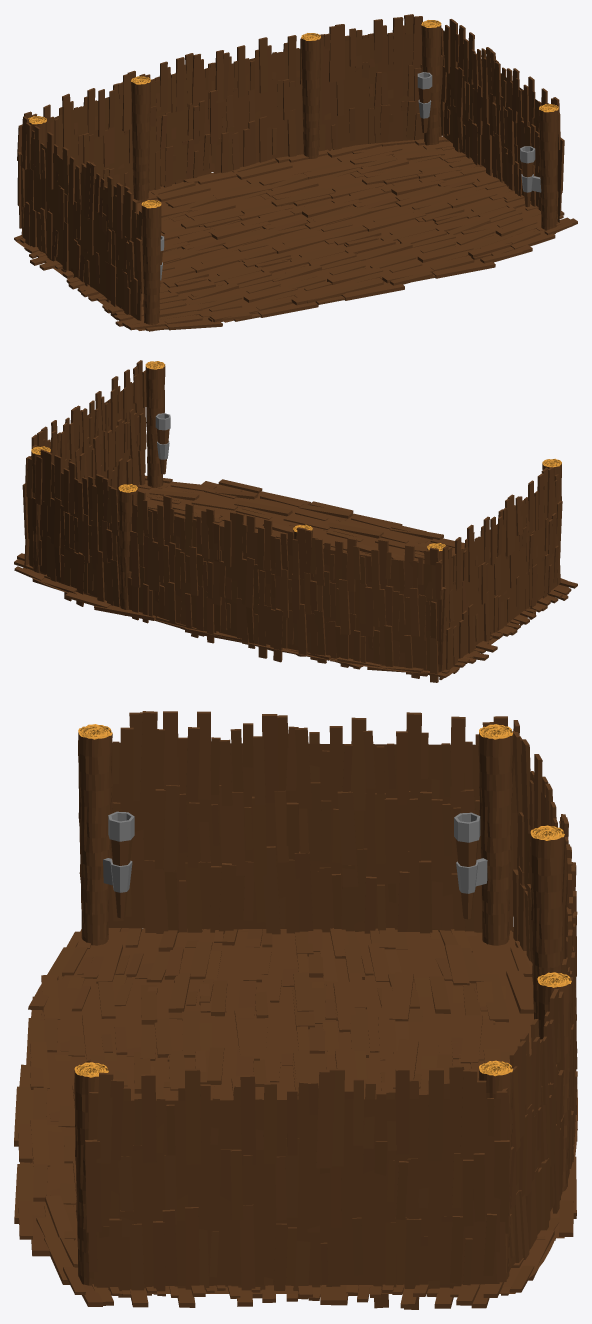
The model's file is hall.fbx.
3 views of the same model, one above another, from view 1: azimuth 30°, elevation 25°; view 2: azimuth 150°, elevation 25°; view 3: azimuth 270°, elevation 25° (orthographic). The views are drawn at different scales.
Visible parts, largest first — view 1: Cube.003, Cube.094, Plane, Cube.002, Cube.001, Cube.006, Cube.007, Cube.008, Cube.005, Cube.004, Cylinder.004, Cylinder.002 (+5 smaller); view 2: Cube.002, Cube.003, Cube.094, Cube.001, Cube.007, Plane, Cube.006, Cube.008, Cube.004, Cylinder.002, Cylinder.005, Cube.005 (+2 smaller); view 3: Cube.001, Cube.094, Plane, Cube.005, Cube.004, Cube.003, Cube.008, Cube.006, Cube.002, Cylinder, Cylinder.003, Cube.007 (+6 smaller).
Boxes of the visible parts, <box> form: Cube.003: <box>210,14,443,173</box>; Cube.094: <box>17,116,143,320</box>; Plane: <box>22,139,545,323</box>; Cube.002: <box>17,53,214,236</box>; Cube.001: <box>440,19,564,223</box>; Cube.006: <box>164,158,432,305</box>; Cube.007: <box>252,143,532,283</box>; Cube.008: <box>350,135,577,257</box>; Cube.005: <box>132,180,345,322</box>; Cube.004: <box>14,235,260,330</box>; Cylinder.004: <box>131,76,150,202</box>; Cylinder.002: <box>539,104,558,234</box>; Cube.002: <box>213,511,446,682</box>; Cube.003: <box>26,449,217,643</box>; Cube.094: <box>438,467,562,679</box>; Cube.001: <box>22,360,146,565</box>; Cube.007: <box>65,479,352,629</box>; Plane: <box>26,484,559,673</box>; Cube.006: <box>156,501,443,651</box>; Cube.008: <box>14,475,258,598</box>; Cube.004: <box>337,578,577,677</box>; Cylinder.002: <box>145,361,165,487</box>; Cylinder.005: <box>118,484,138,615</box>; Cube.005: <box>282,524,464,668</box>; Cube.001: <box>85,1065,509,1309</box>; Cube.094: <box>108,711,513,934</box>; Plane: <box>46,932,577,1286</box>; Cube.005: <box>26,972,531,1092</box>; Cube.004: <box>28,927,533,1022</box>; Cube.003: <box>502,897,577,1269</box>; Cube.008: <box>36,1195,559,1308</box>; Cube.006: <box>14,1039,577,1163</box>; Cube.002: <box>512,720,577,1071</box>; Cylinder: <box>478,724,513,945</box>; Cylinder.003: <box>78,724,112,945</box>; Cube.007: <box>14,1119,576,1256</box>.
Bounding box in the file's own units: 2883 × 844 × 1779.
